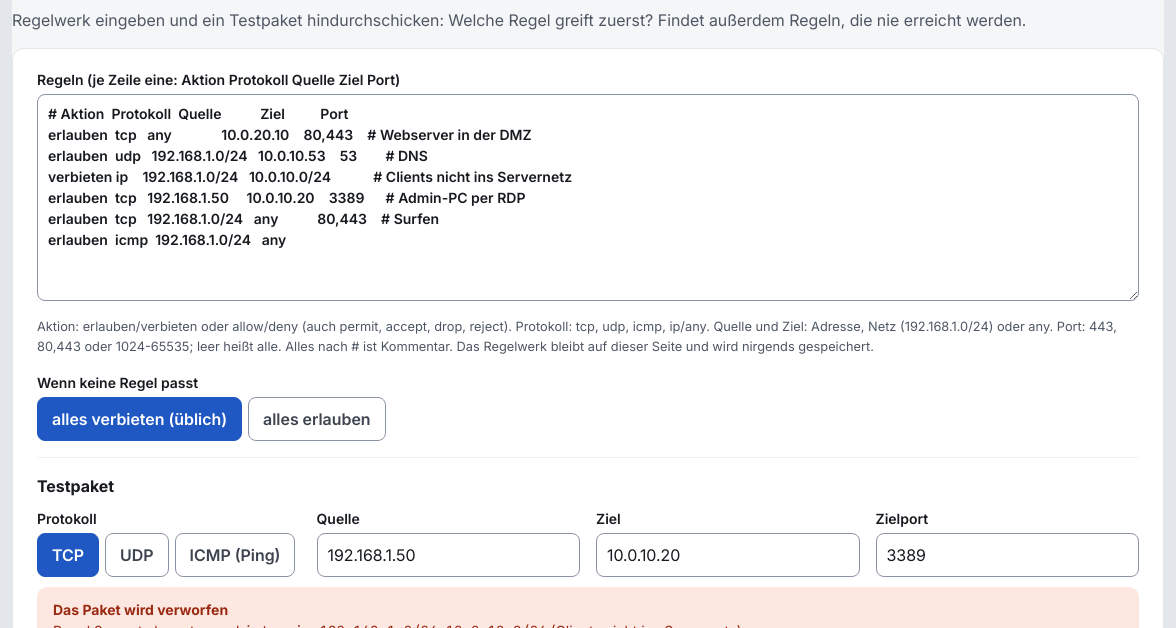
Test: ToolPage › Firewall-Regeln: zeigt, welche Regel zuerst greift, und findet verdeckte Regeln
The image size is (1176, 628).
Expected: the text box labelled "Regeln (je Zeile eine: Aktion Protokoll Quelle Ziel Port)" is shown, [37, 94, 1139, 301]
Expected: the text "Das Paket wird verworfen" is shown, [53, 601, 228, 618]
Replace the text in the field labelled "Ziel" with "10.0.20.10" at (728, 555), box [596, 533, 860, 577]
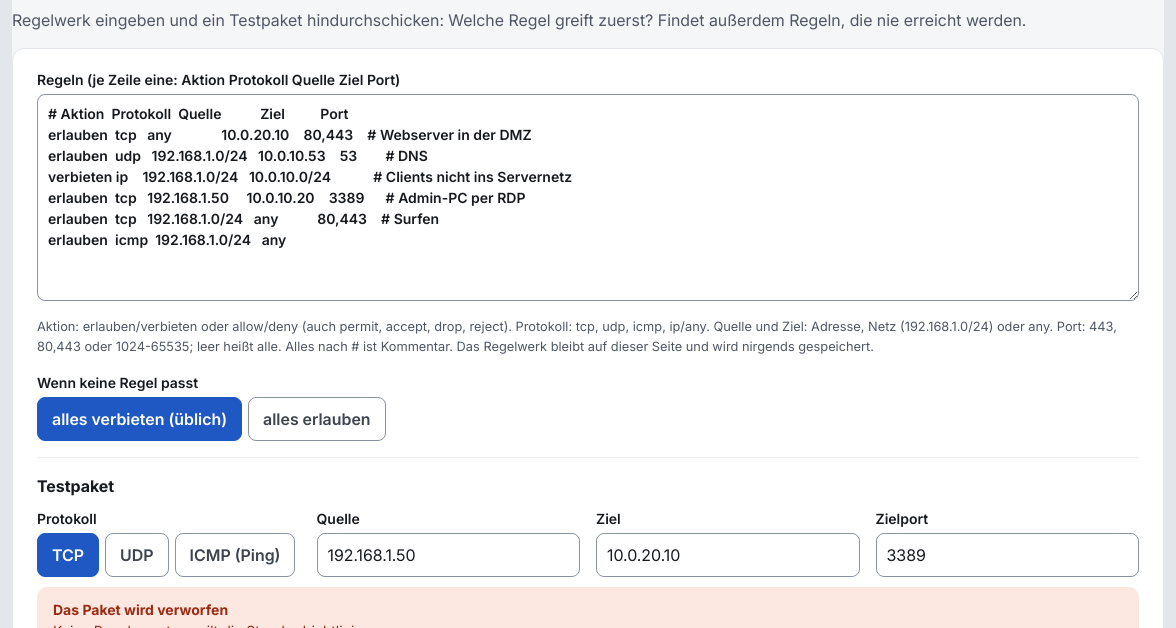
Replace the text in the field labelled "Zielport" with "443" at (1007, 555), box [876, 533, 1139, 577]
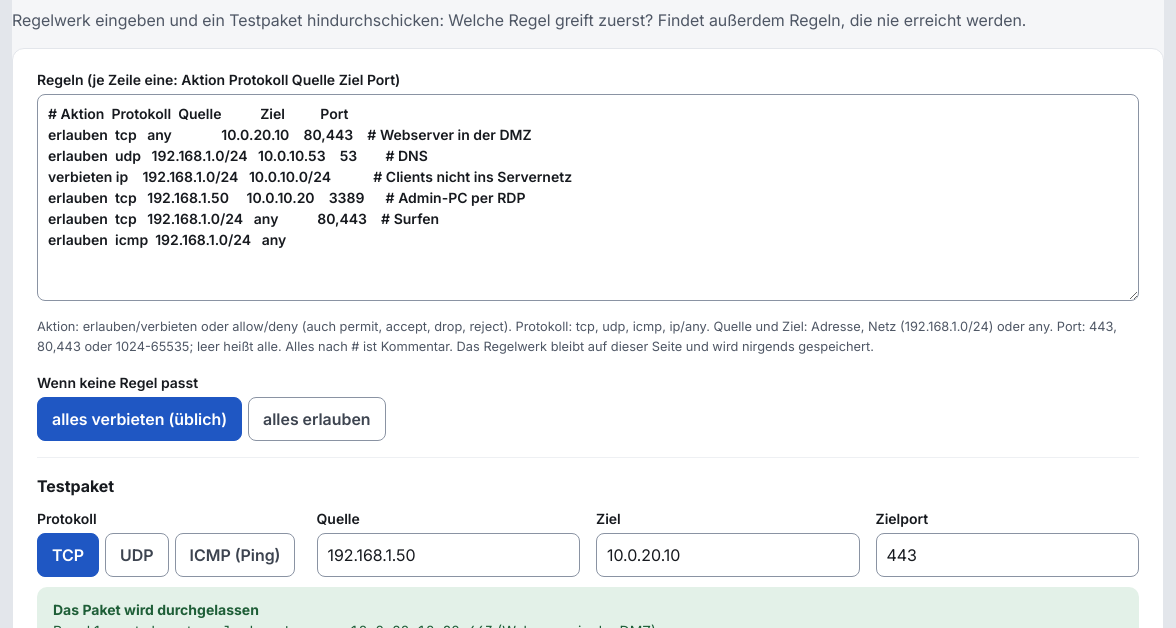
Result: the text "Das Paket wird durchgelassen" is shown at [53, 601, 259, 618]
Replace the text in the field labelled "Zielport" with "25" at (1007, 555), box [876, 533, 1139, 577]
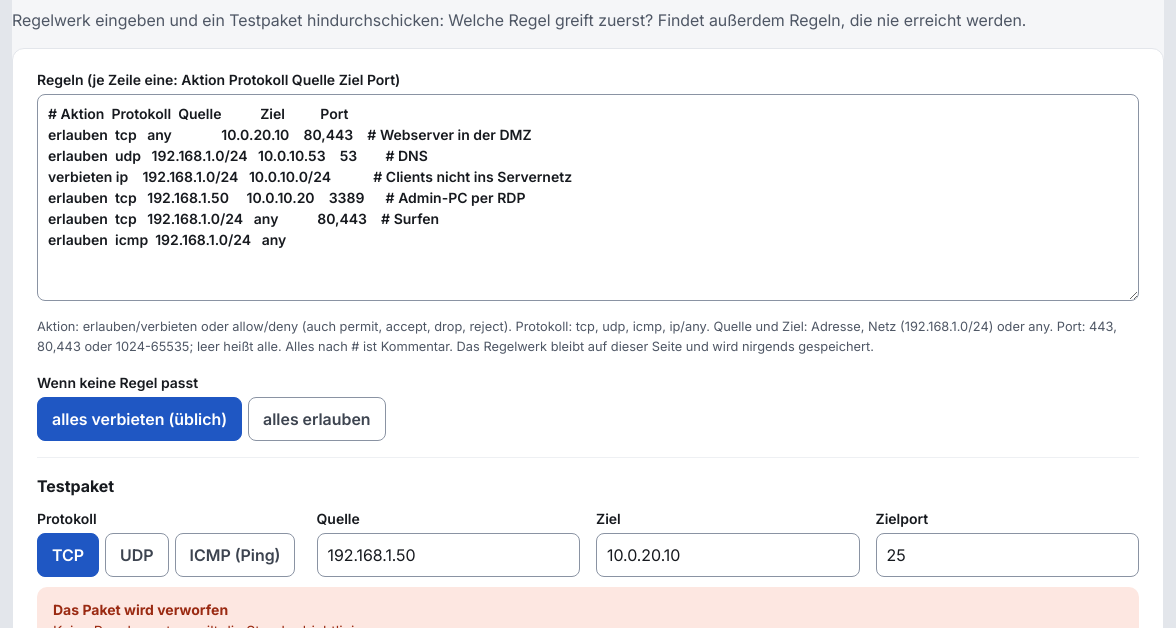
Replace the text in the field labelled "Quelle" with "kaputt" at (448, 555), box [316, 533, 580, 577]
(page scrolled)
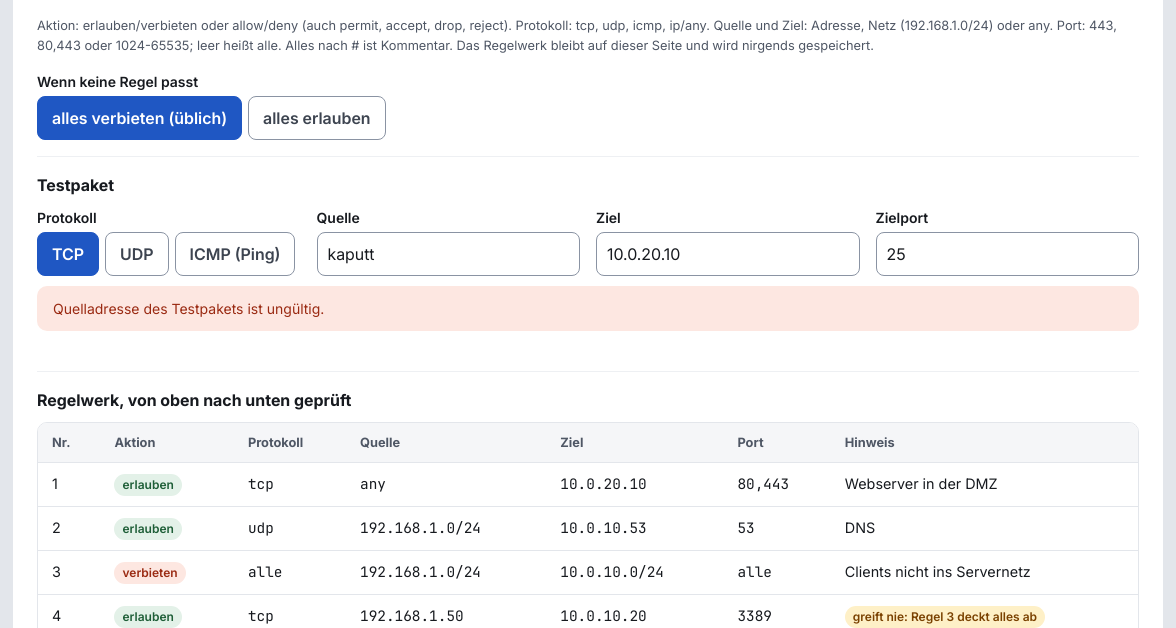
Result: the message shows "Quelladresse des Testpakets ist ungültig" at [53, 300, 324, 317]
